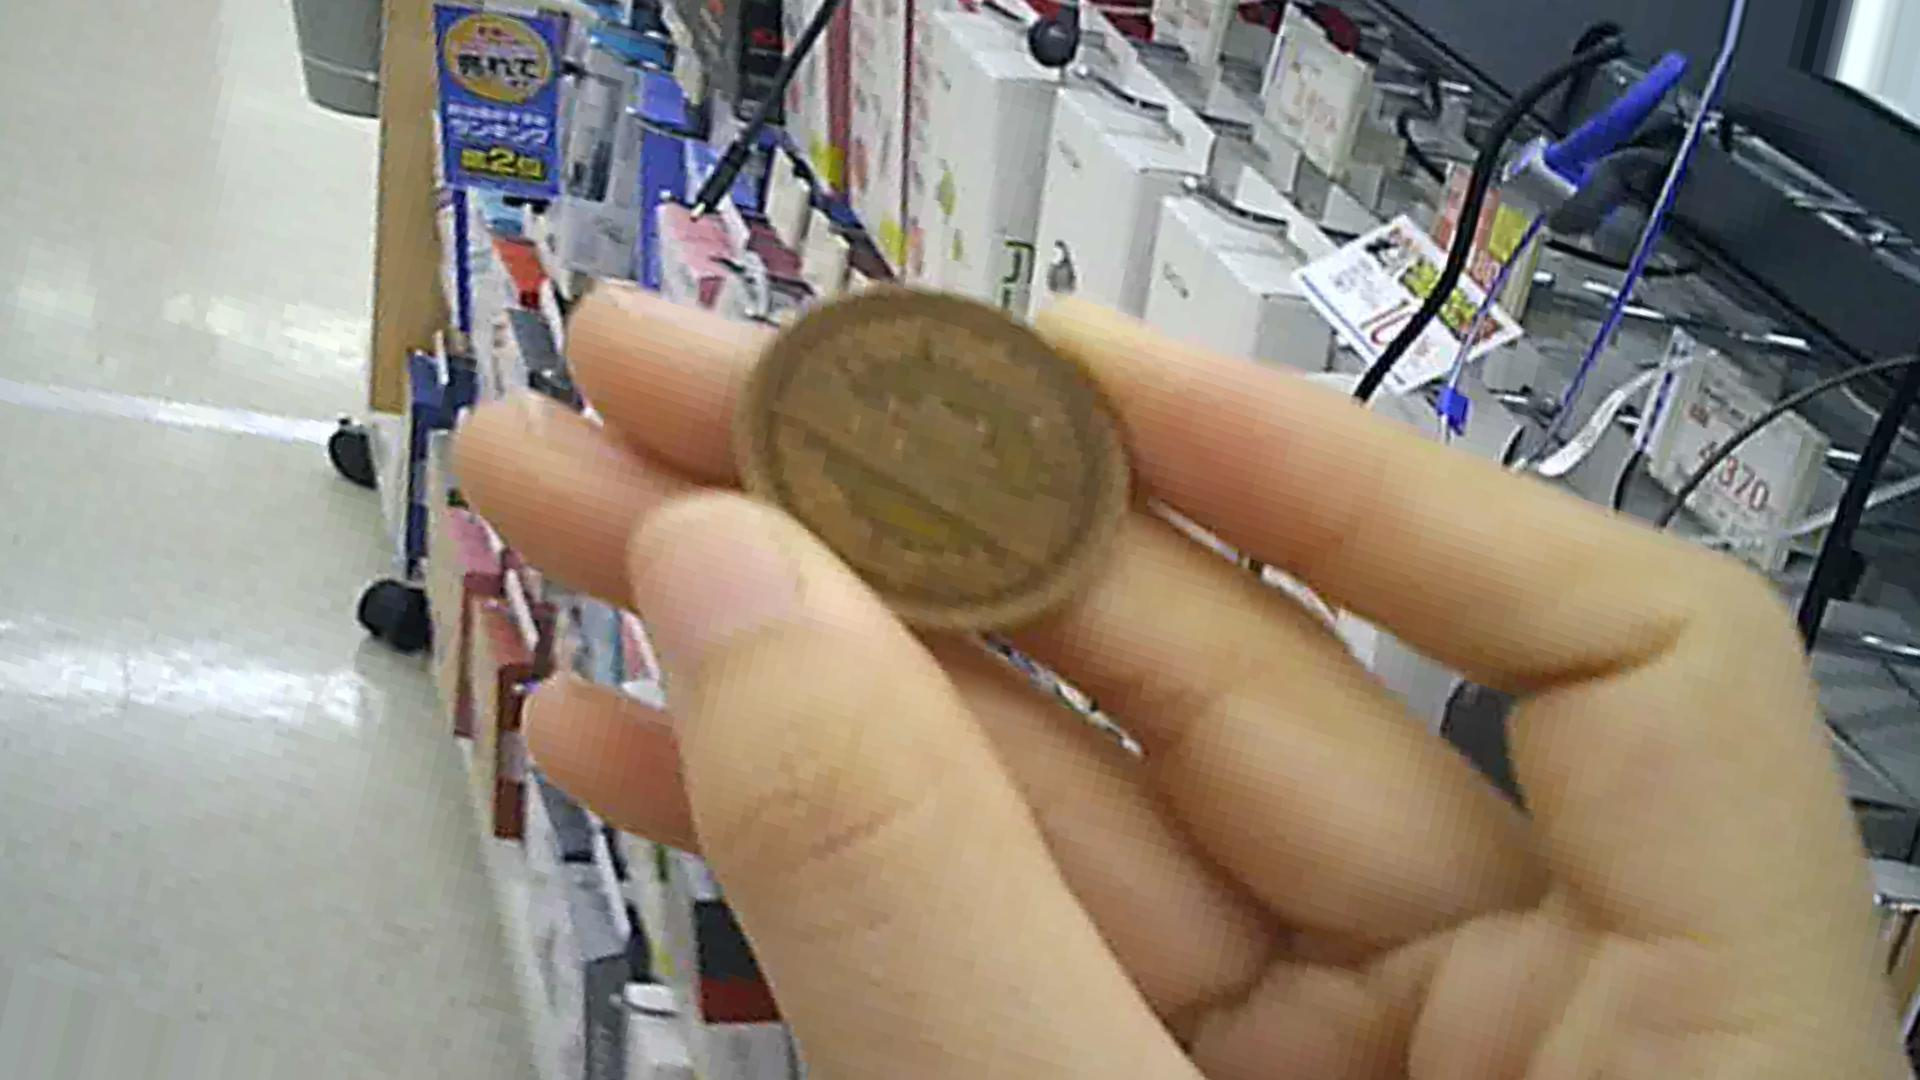10 Yen: (724, 276, 1124, 646)
